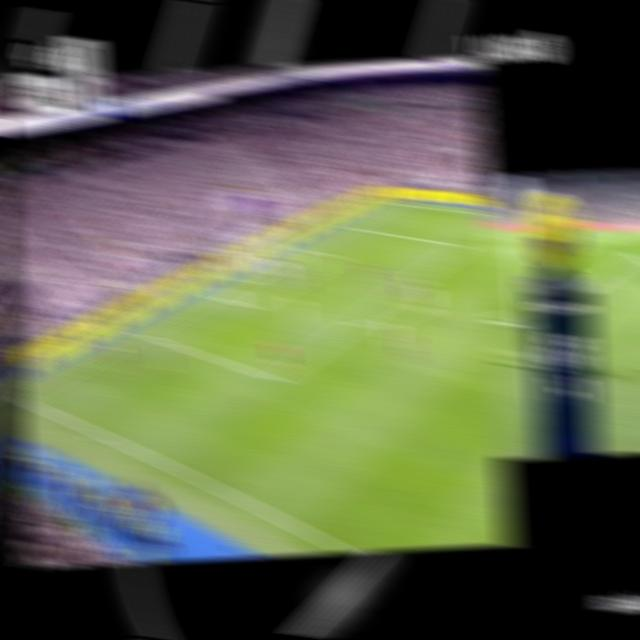bigarea_bottom_inner: (265, 368, 287, 390)
bigarea_bottom_outter: (130, 324, 152, 339)
bigarea_top_inner: (450, 237, 470, 252)
bottom_arc_area_intersection: (342, 314, 364, 331)
smallarea_bottom_inner: (240, 297, 260, 313)
smallarea_bottom_outter: (203, 287, 224, 302)
smallarea_top_inner: (328, 250, 345, 259)
smallarea_top_outter: (294, 241, 313, 253)
top_arc_area_intersection: (407, 270, 426, 284)
